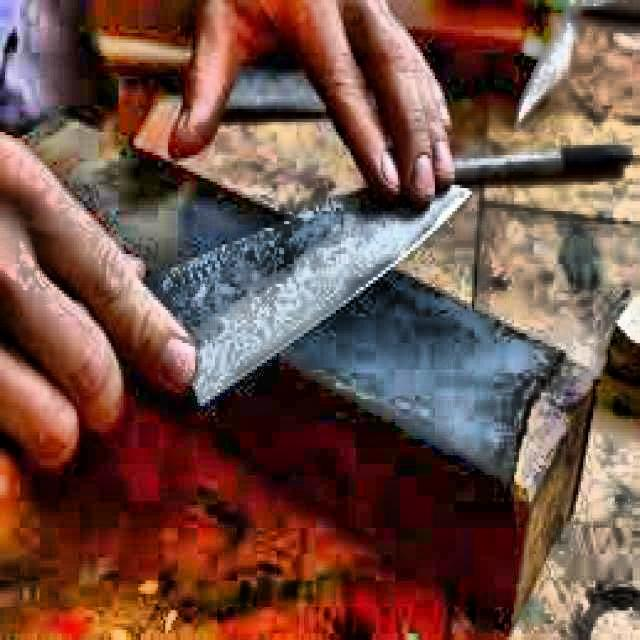knife: (144, 176, 472, 403)
